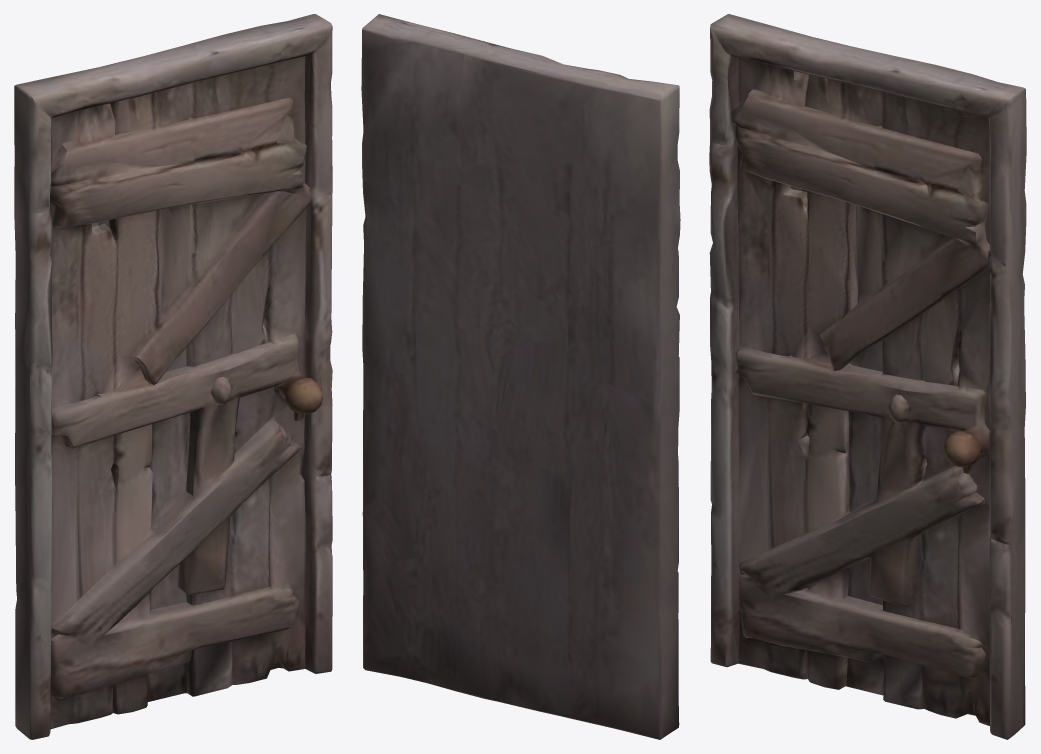
Rendered from door_10.glb.
3 views of the same model, side by side, from view 1: azimuth 30°, elevation 25°; view 2: azimuth 150°, elevation 25°; view 3: azimuth 330°, elevation 25° (orthographic).
Parts seen in each view (by area): view 1: door; view 2: door; view 3: door.
Boxes of the visible parts, box(x1,y1,x2,y2) form: door: box(14, 14, 332, 739); door: box(361, 14, 680, 739); door: box(709, 14, 1026, 739).
Size of the model in its own units: 1.03 by 2.1 by 0.2192.
Materials: 1 (1 with a texture image).
